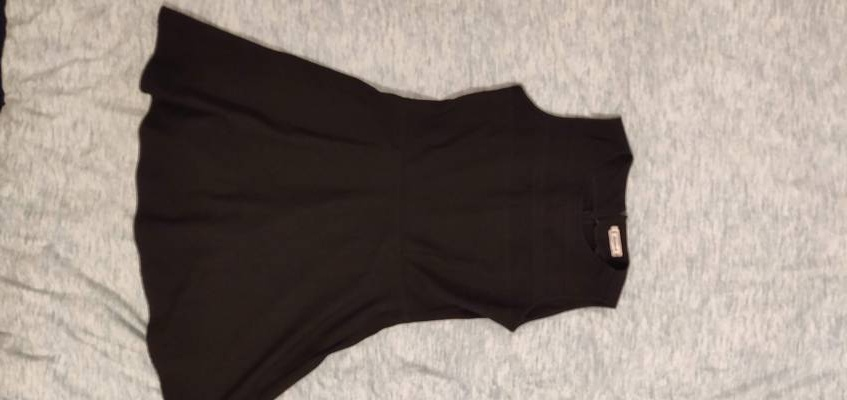Dress: (104, 53, 667, 395)
